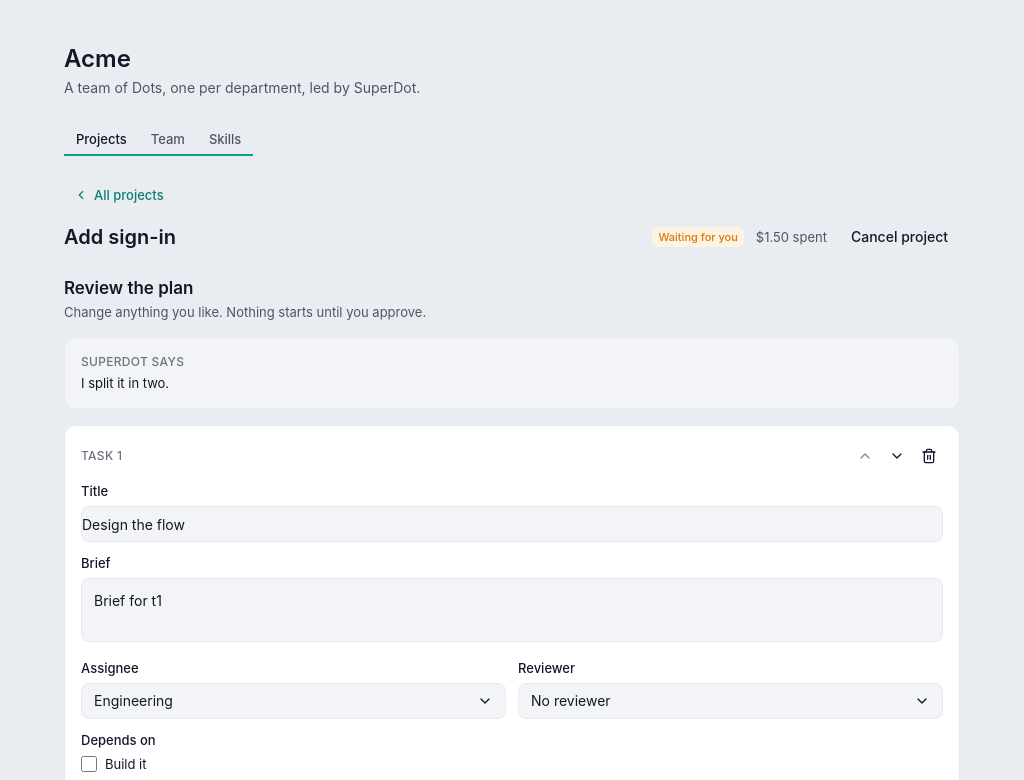
Test: plan editor › shows live validation messages and blocks approval
Clear the field labelled "Title": {"x": 512, "y": 524} [81, 506, 943, 542]
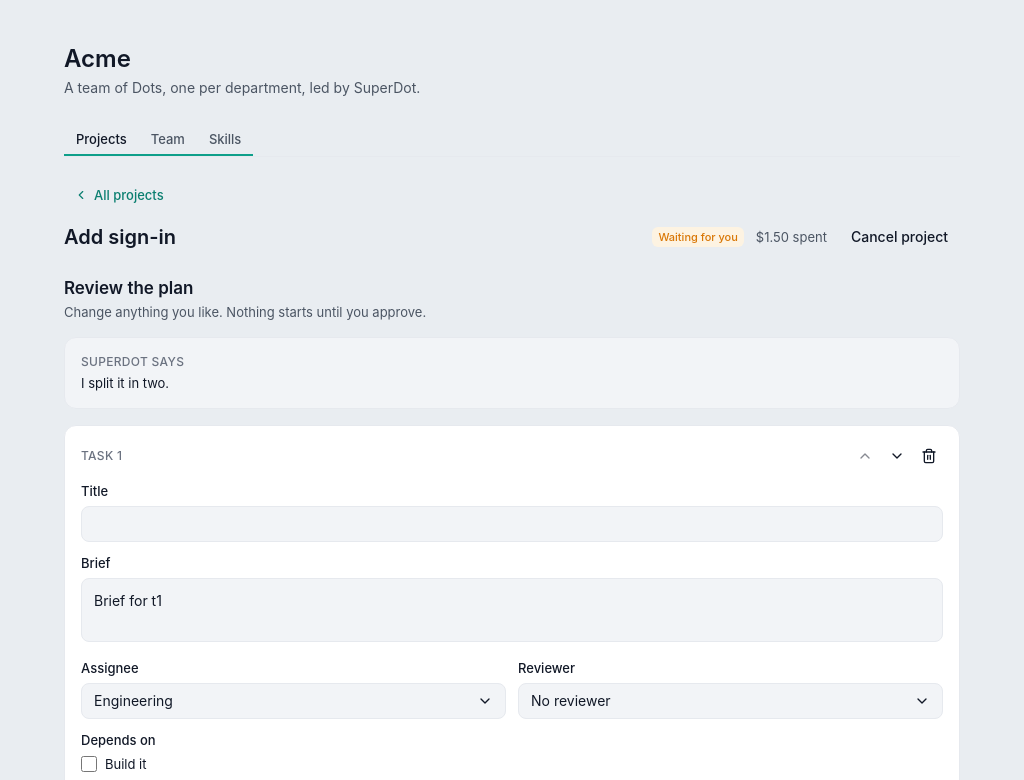
In the field labelled "Title": {"x": 512, "y": 524} [81, 506, 943, 542], type "Back"
(page scrolled)
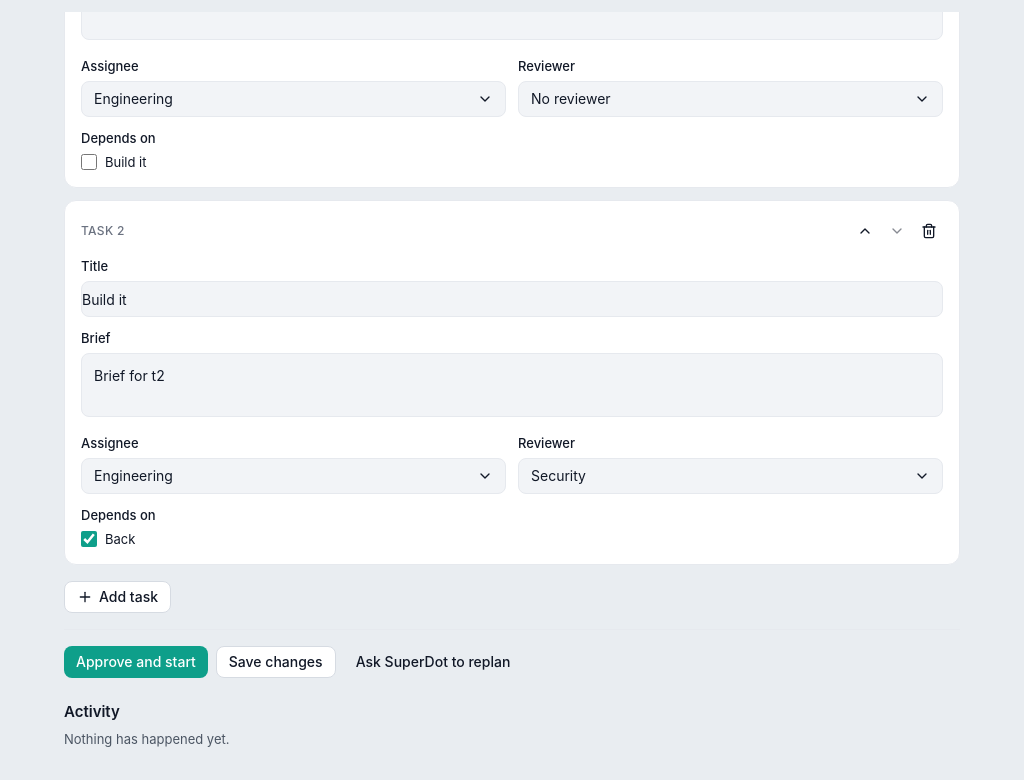
Now the button "Approve and start" is enabled, box [64, 646, 208, 678]
